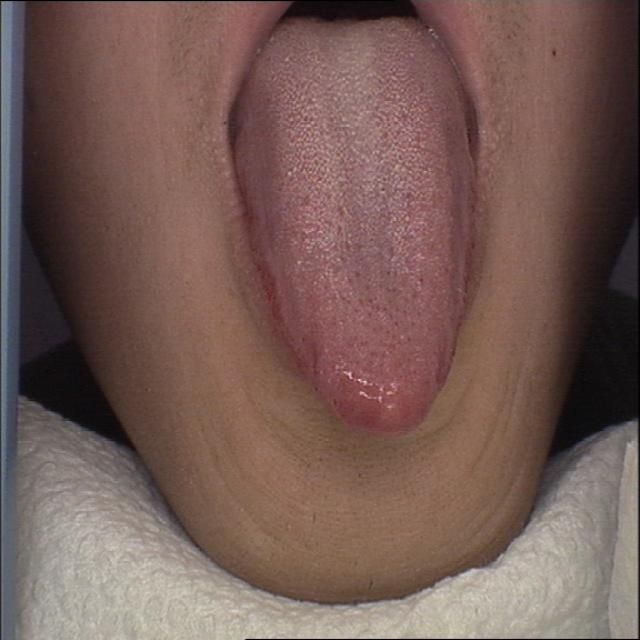tongue: (227, 10, 494, 444)
